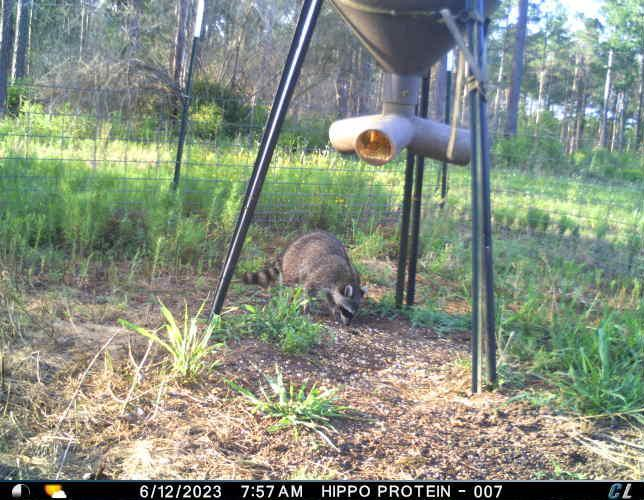Raccoon: (238, 226, 369, 328)
